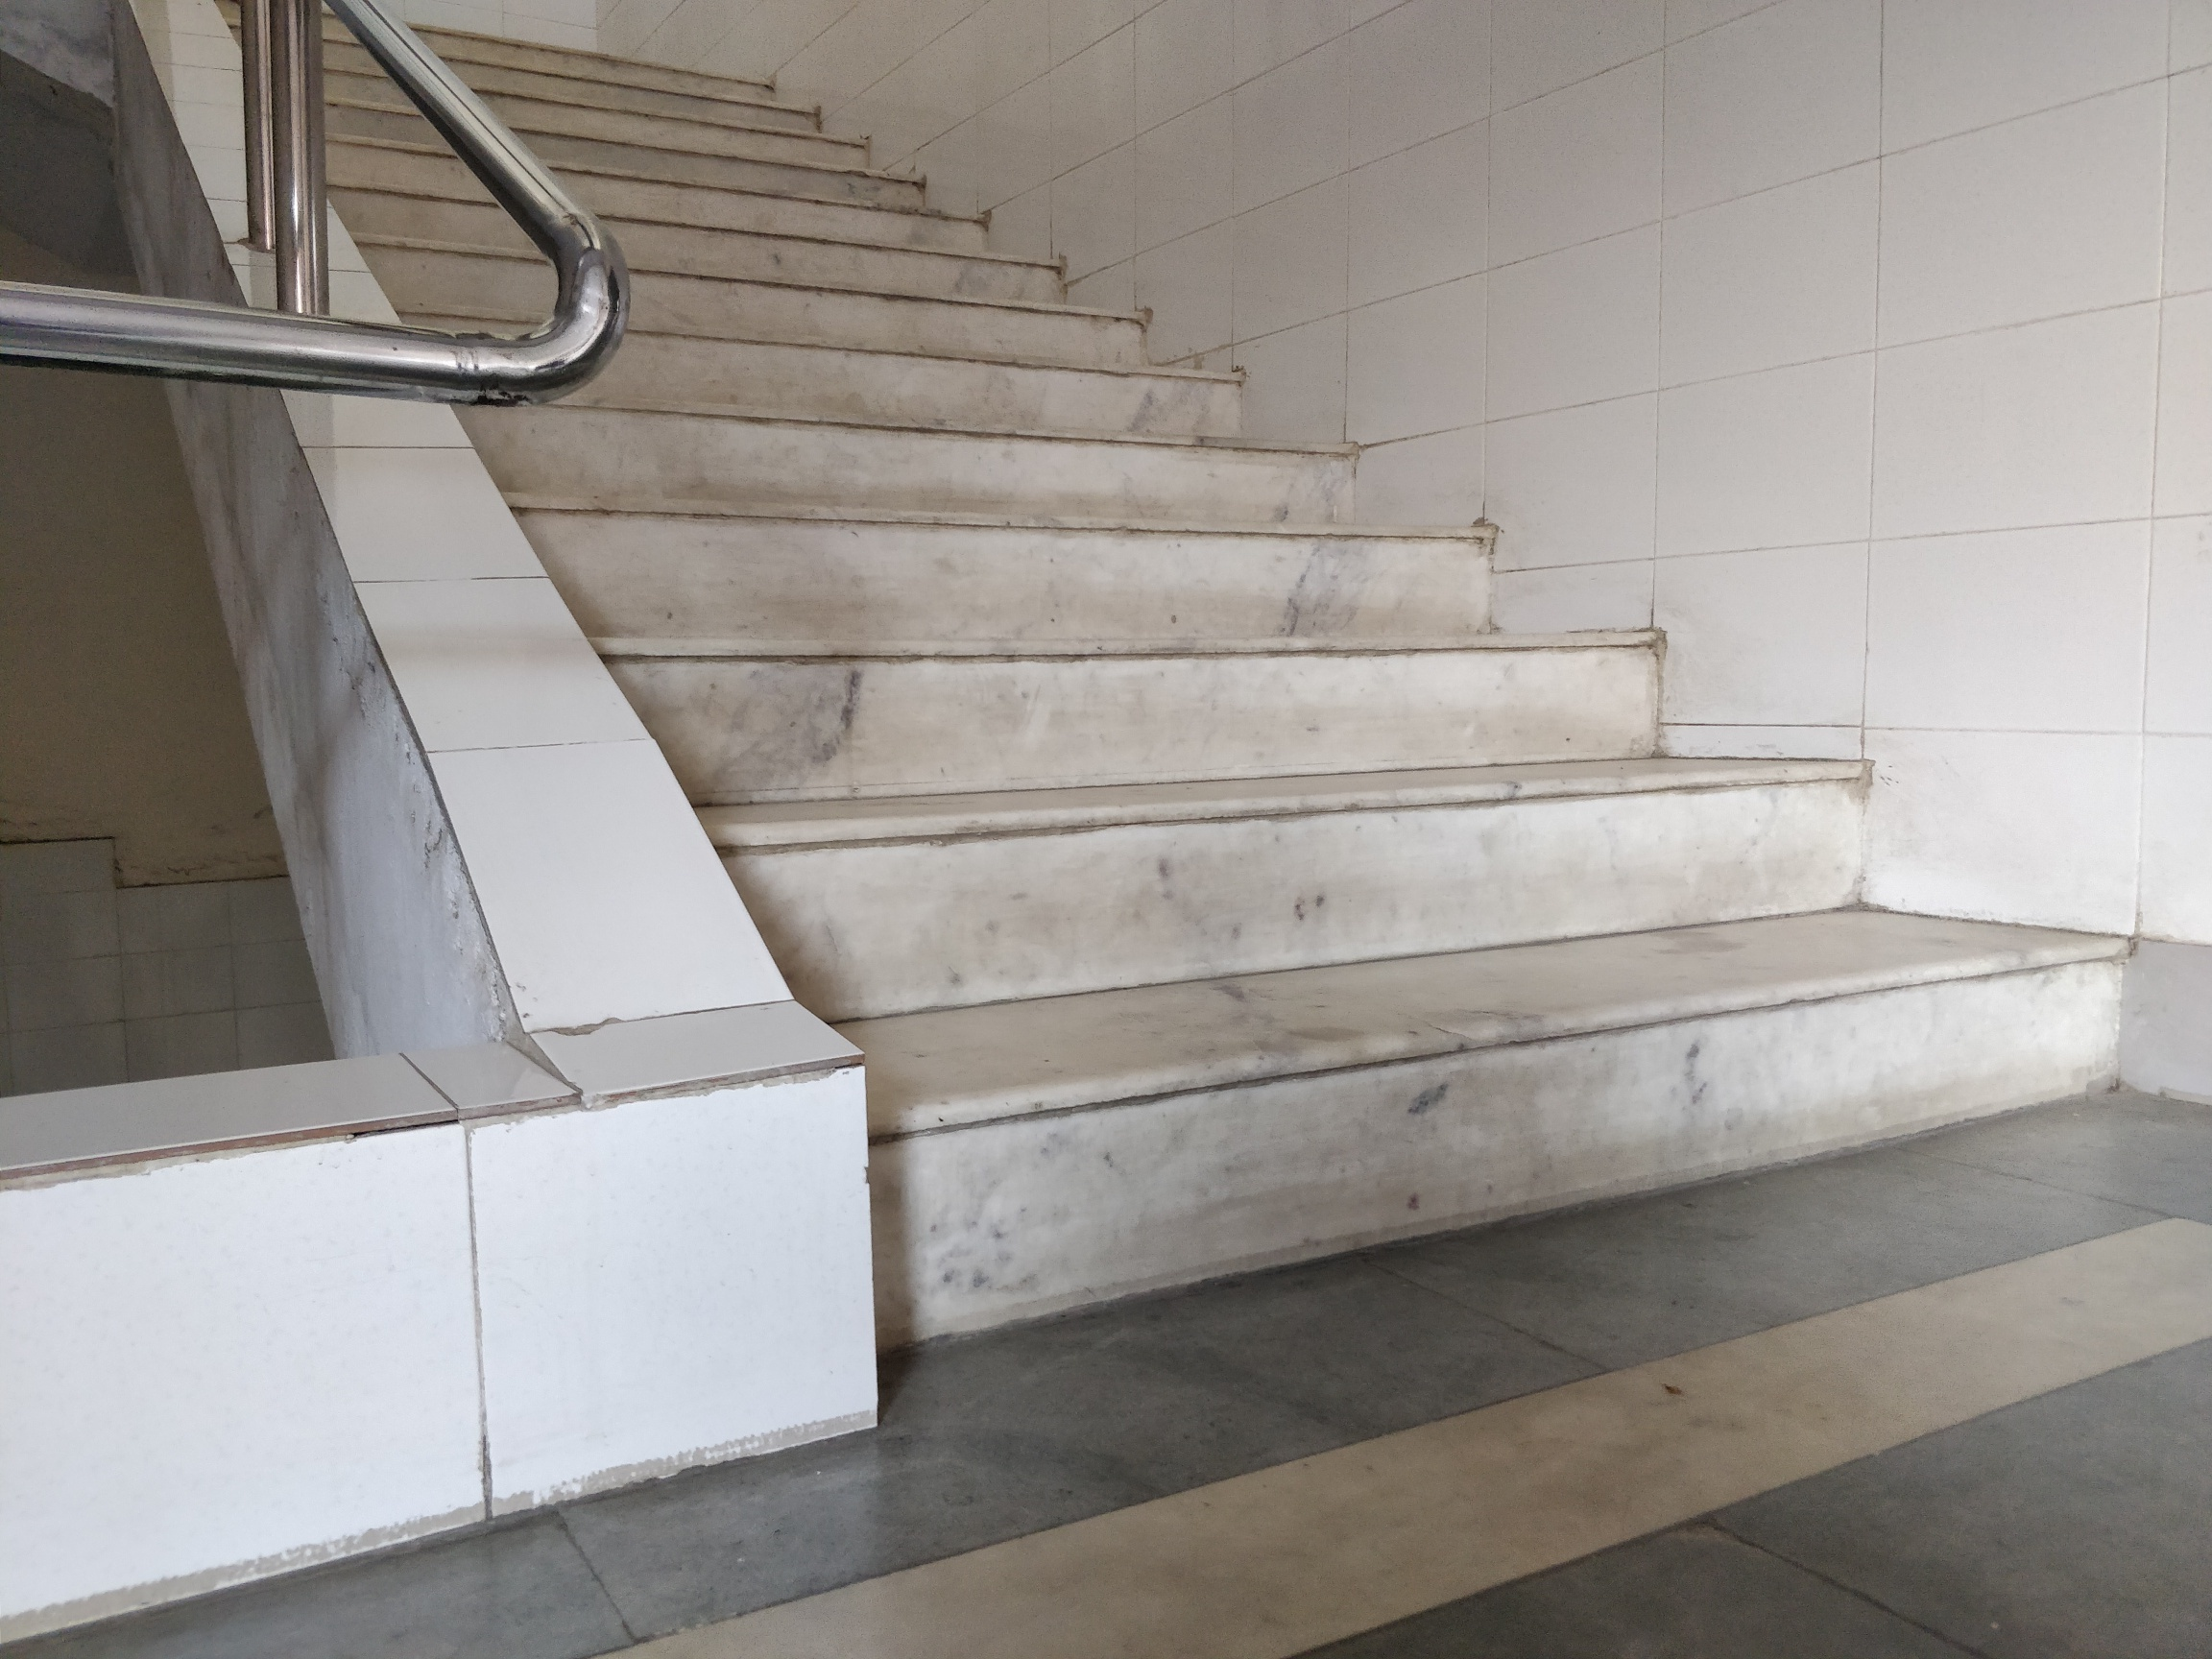stairs_up: (249, 2, 2151, 1293)
